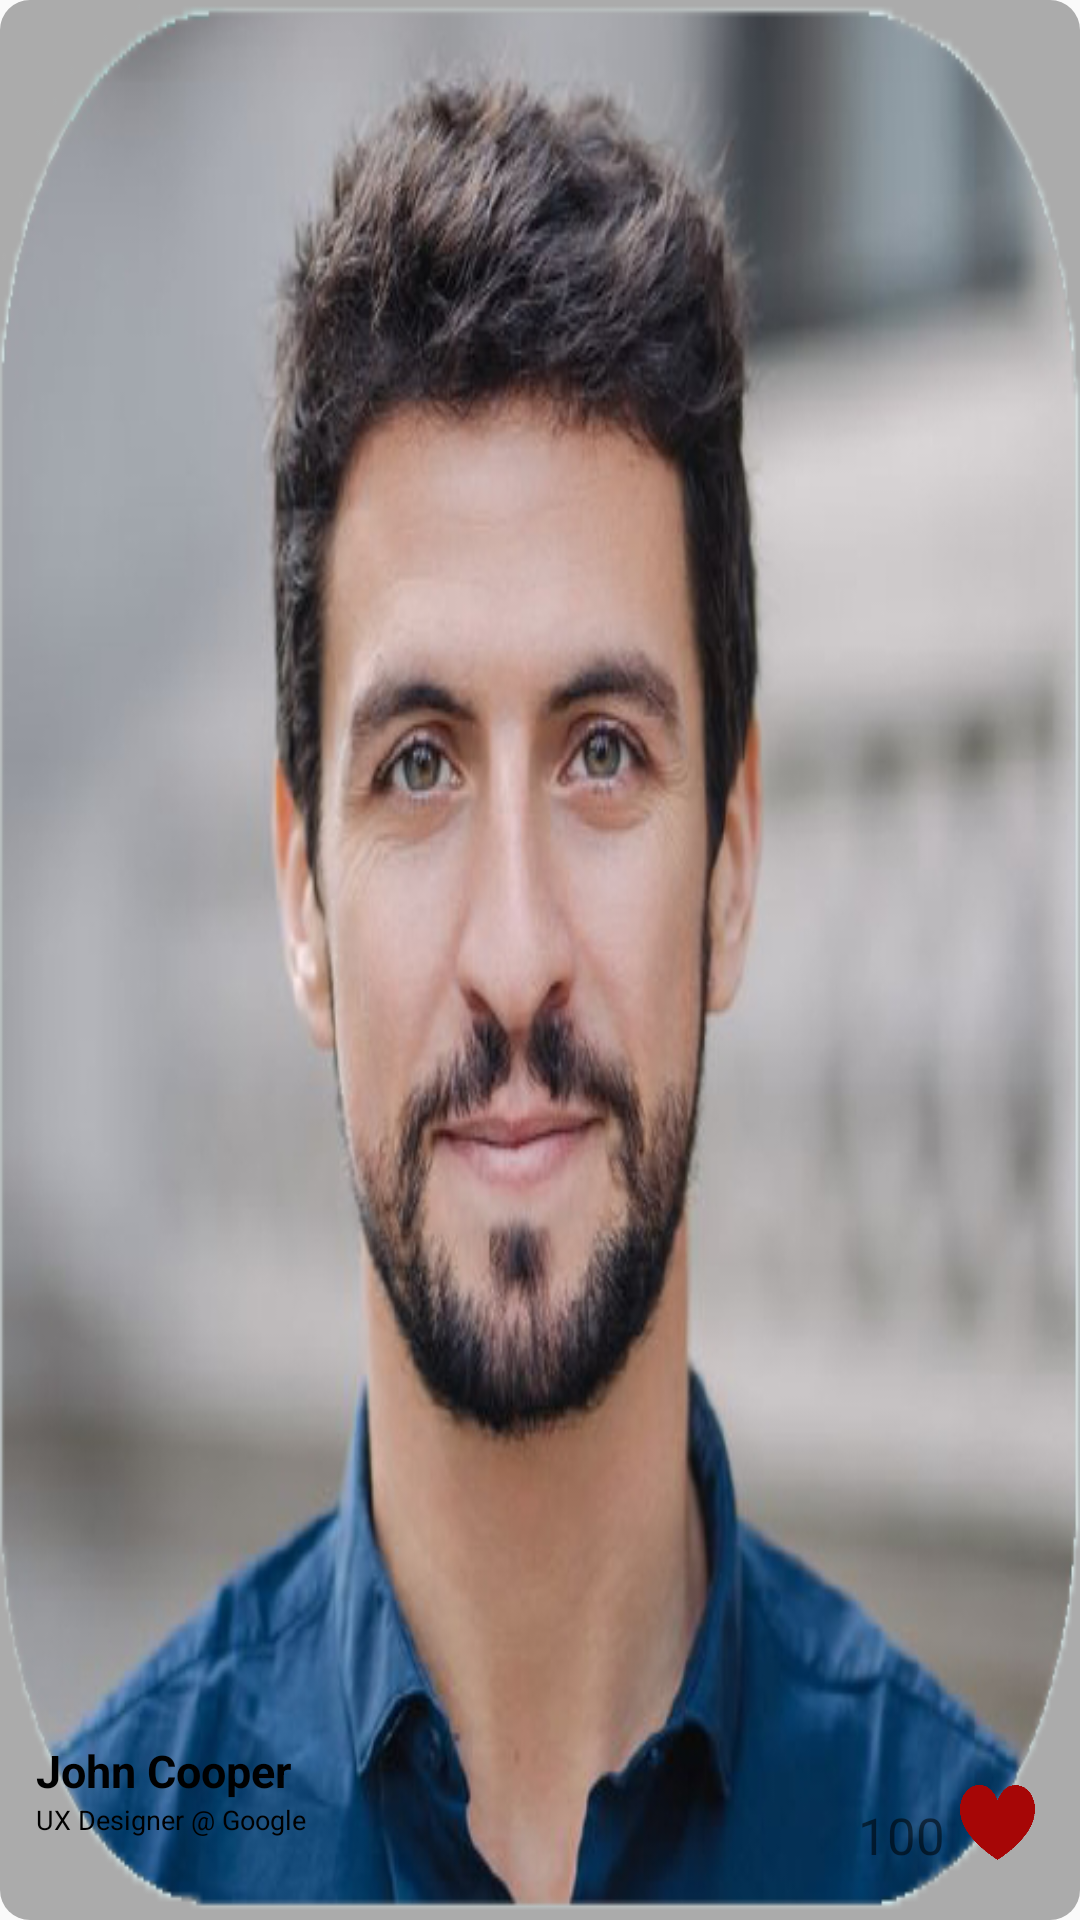

Icon click points for this 1080×1920 phone screenshot, format point (x, y):
heart: point (997, 1822)
